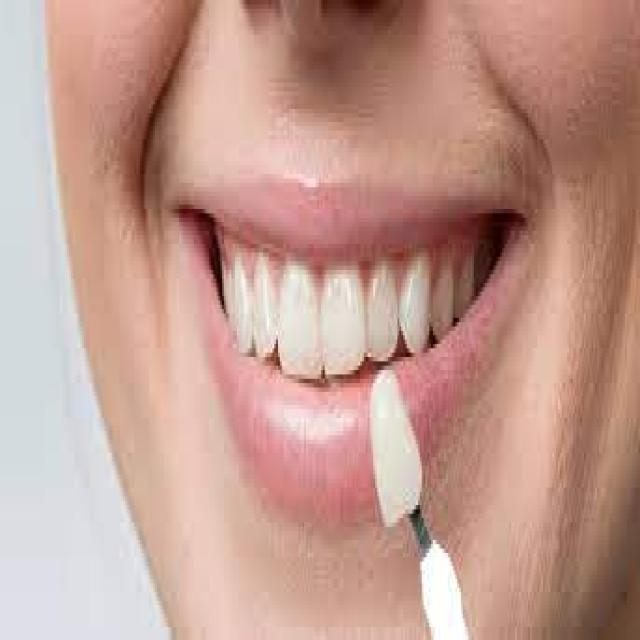tooth: (321, 253, 362, 370), (280, 248, 319, 370), (429, 244, 452, 348), (368, 270, 393, 357), (405, 266, 431, 344), (254, 248, 274, 348), (231, 257, 252, 348), (453, 231, 474, 309)
